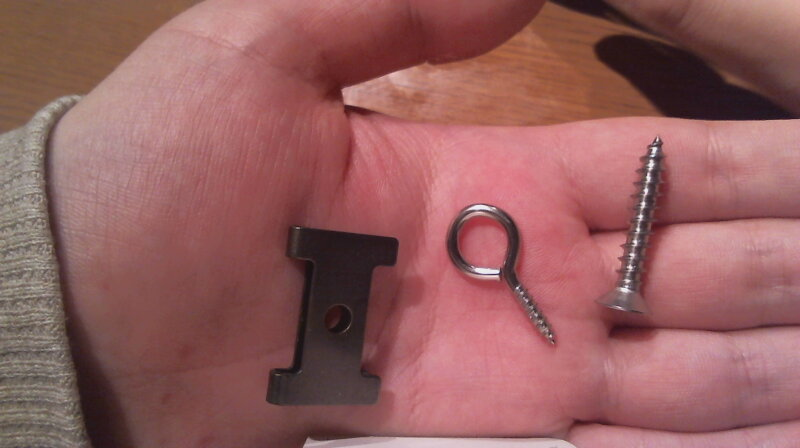O001: (441, 200, 562, 349)
O002: (262, 220, 399, 408)
S001: (590, 133, 673, 324)
